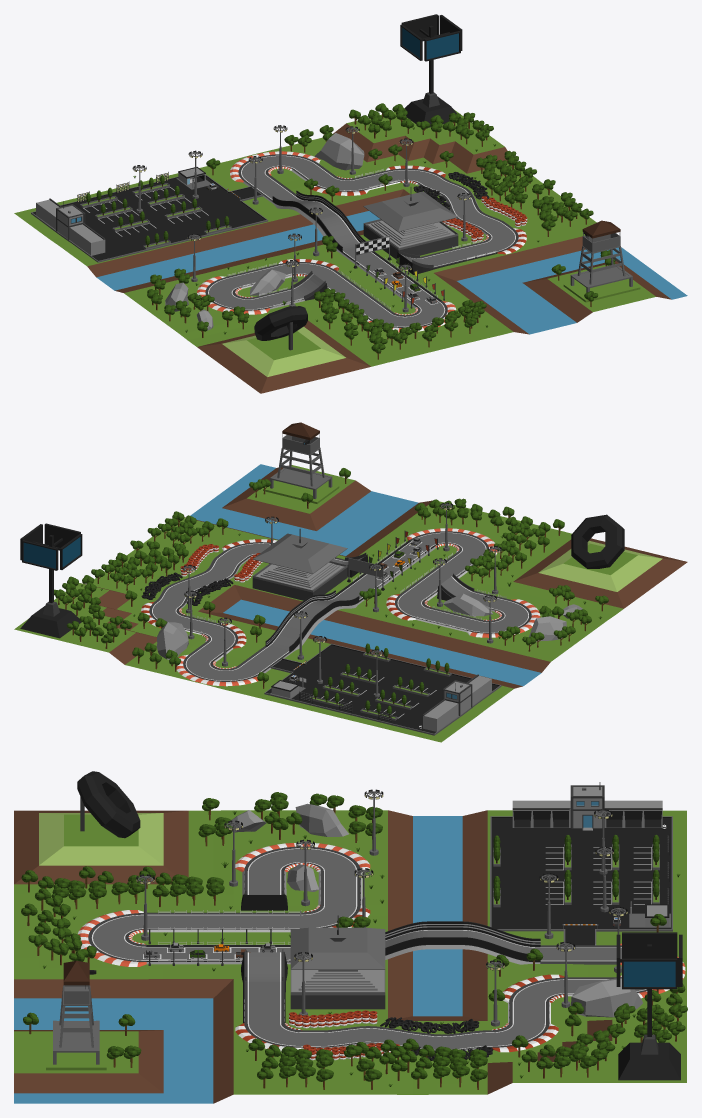
File: low_poly_race_track.glb
3 renders of one model, top to bottom at view 1: azimuth 30°, elevation 25°; view 2: azimuth 150°, elevation 25°; view 3: azimuth 270°, elevation 25°, orthographic. The views are drawn at different scales.
Visible parts, largest first — view 1: Earth_44, parking_214, bridge_242, tribune_177, tower.001_52, tower_46, garages_213, crooked road_249, road 180.002_244, road 180.001_243, springboard_250, big wheel_43 (+10 smaller); view 2: Earth_44, parking_214, bridge_242, tribune_177, tower.001_52, tower_46, big wheel_43, garages_213, crooked road_249, road 180.002_244, road 180.001_243, road 180_238 (+11 smaller); view 3: Earth_44, parking_214, tribune_177, bridge_242, tower.001_52, garages_213, tower_46, springboard_250, road.002_255, crooked road_249, road 180.001_243, road 180_238 (+13 smaller).
Part boxes in pixels (box(x1,y1,x2,y2)): Earth_44: box(14, 109, 687, 393); parking_214: box(31, 174, 268, 262); bridge_242: box(243, 175, 441, 307); tribune_177: box(363, 187, 458, 259); tower.001_52: box(400, 14, 462, 127); tower_46: box(570, 220, 632, 292); garages_213: box(36, 198, 105, 255); crooked road_249: box(417, 177, 512, 234); road 180.002_244: box(230, 151, 320, 182); road 180.001_243: box(197, 276, 269, 314); springboard_250: box(396, 242, 497, 274); big wheel_43: box(254, 306, 307, 350); Earth_44: box(14, 464, 687, 742); parking_214: box(264, 643, 501, 735); bridge_242: box(237, 540, 435, 673); tribune_177: box(252, 528, 347, 600); tower.001_52: box(20, 523, 82, 638); tower_46: box(270, 422, 332, 498); big wheel_43: box(571, 514, 624, 568); garages_213: box(423, 674, 491, 731); crooked road_249: box(155, 551, 250, 608); road 180.002_244: box(176, 654, 259, 686); road 180.001_243: box(467, 599, 540, 637); road 180_238: box(407, 528, 497, 557); Earth_44: box(14, 810, 686, 1103); parking_214: box(489, 816, 672, 945); tribune_177: box(290, 915, 385, 1009); bridge_242: box(146, 921, 616, 964); tower.001_52: box(616, 932, 682, 1080); garages_213: box(512, 782, 662, 830); tower_46: box(53, 960, 99, 1064); springboard_250: box(241, 949, 287, 1023); road.002_255: box(147, 912, 302, 932); crooked road_249: box(302, 1026, 491, 1050); road 180.001_243: box(235, 842, 370, 871); road 180_238: box(78, 910, 146, 966).
Size of the model in its own units: 44.74 by 10.66 by 44.81.
Materials: 4 (3 with a texture image).
